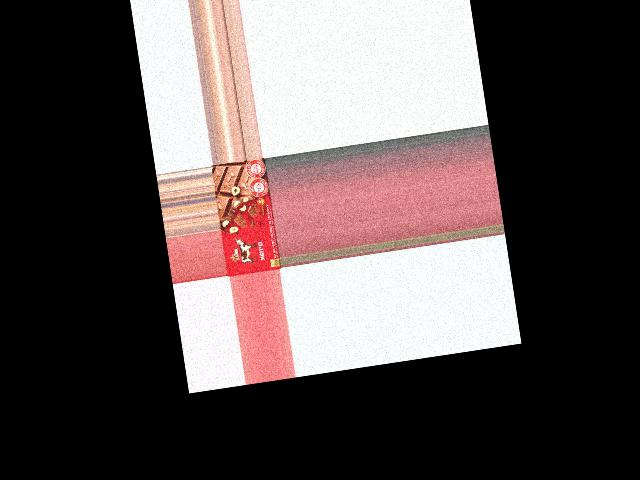chocolate: (211, 158, 280, 277)
